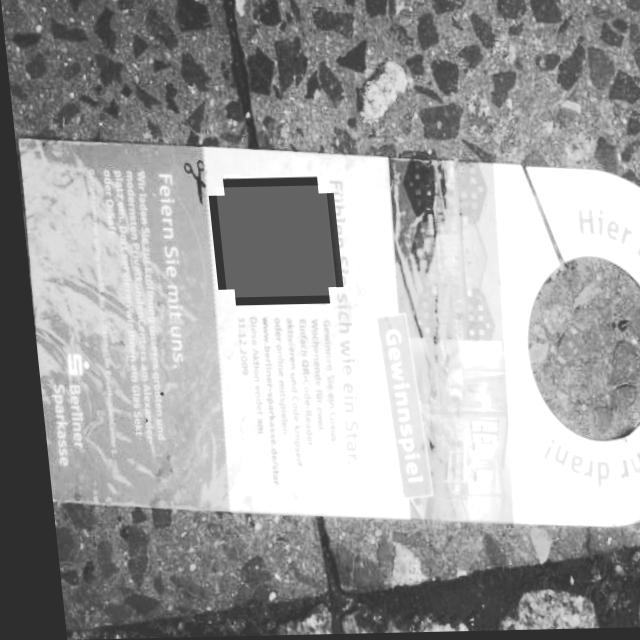qr_code: (211, 187, 330, 299)
